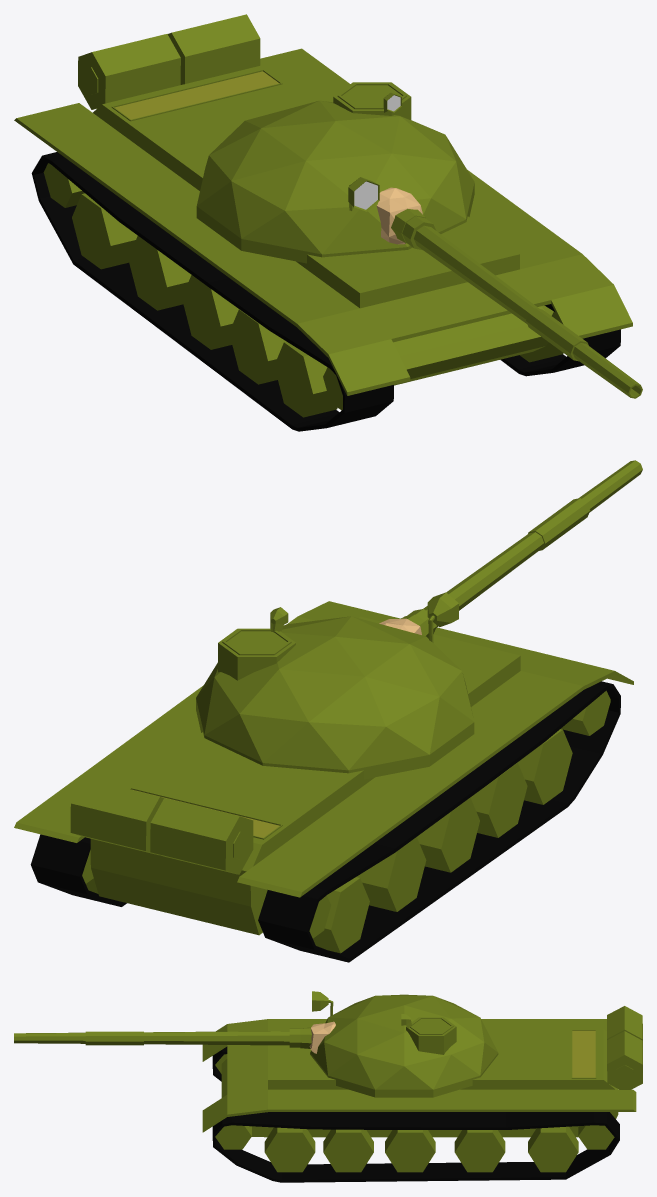
The picture shows the model from 3 angles, top to bottom: view 1: azimuth 30°, elevation 25°; view 2: azimuth 150°, elevation 25°; view 3: azimuth 270°, elevation 25°; orthographic projection. The views are drawn at different scales.
Visible parts, largest first — view 1: Mainframe, Mainturret, Steering, FuelP2, FuelP1, RWheels.006, RWheels.002, RWheels.005, RWheels.004, RWheels.003, RWheels.007; view 2: Mainframe, Mainturret, Steering, FuelP2, FuelP1, RWheels.005, RWheels.004, RWheels.003, RWheels.002, RWheels.006, RWheels.001; view 3: Mainframe, Mainturret, Steering, LWheels.007, LWheels.003, FuelP1, LWheels.004, LWheels.006, LWheels.005, FuelP2, LWheels.008, LWheels.002.
Boxes of the visible parts, x1,y1,x2,y2 form: Mainframe: [14, 48, 632, 395]; Mainturret: [196, 82, 642, 398]; Steering: [31, 152, 620, 431]; FuelP2: [78, 34, 180, 109]; FuelP1: [167, 14, 260, 84]; RWheels.006: [72, 193, 137, 269]; RWheels.002: [274, 341, 337, 417]; RWheels.005: [128, 236, 191, 310]; RWheels.004: [182, 275, 238, 349]; RWheels.003: [229, 309, 286, 384]; RWheels.007: [43, 163, 84, 207]; Mainframe: [14, 601, 633, 935]; Mainturret: [196, 460, 642, 779]; Steering: [30, 681, 620, 962]; FuelP2: [150, 798, 253, 874]; FuelP1: [70, 778, 163, 855]; RWheels.005: [356, 837, 426, 911]; RWheels.004: [417, 797, 479, 872]; RWheels.003: [470, 762, 527, 837]; RWheels.002: [517, 729, 572, 804]; RWheels.006: [313, 877, 369, 953]; RWheels.001: [561, 690, 610, 735]; Mainframe: [202, 1019, 636, 1137]; Mainturret: [14, 991, 498, 1097]; Steering: [212, 1046, 619, 1182]; LWheels.007: [528, 1126, 578, 1172]; LWheels.003: [264, 1127, 315, 1172]; FuelP1: [607, 1031, 642, 1089]; LWheels.004: [323, 1129, 373, 1172]; LWheels.006: [454, 1130, 505, 1172]; LWheels.005: [385, 1130, 435, 1172]; FuelP2: [607, 1006, 642, 1048]; LWheels.008: [578, 1125, 614, 1149]; LWheels.002: [215, 1125, 251, 1149].
Size of the model in its own units: 1.22 by 0.8974 by 3.58.
